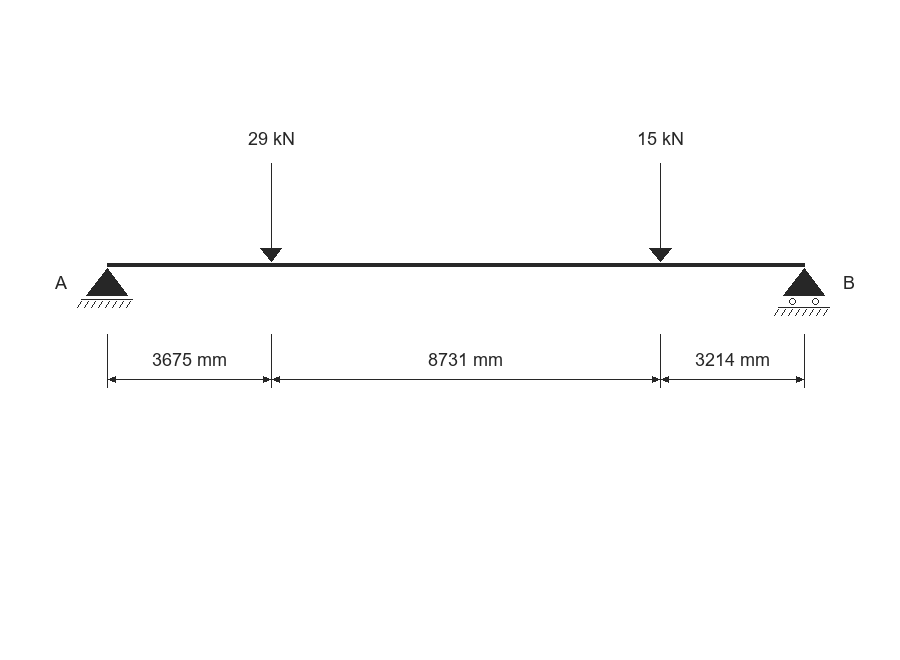pin_support: (77, 268, 133, 308)
point_load: (649, 163, 672, 262), (260, 163, 282, 262)
roller_support: (774, 268, 830, 316)
